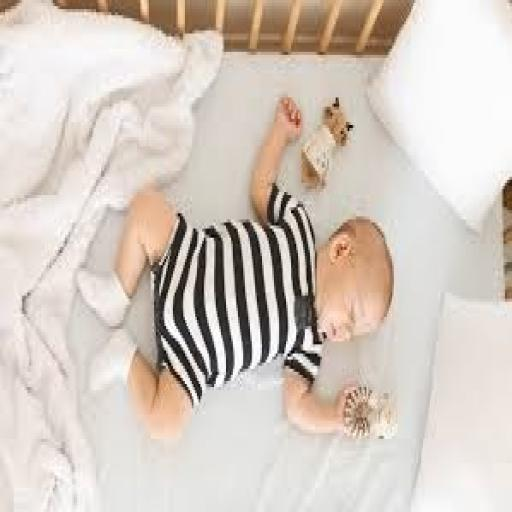baby: (78, 98, 393, 441)
crib: (0, 0, 512, 512)
